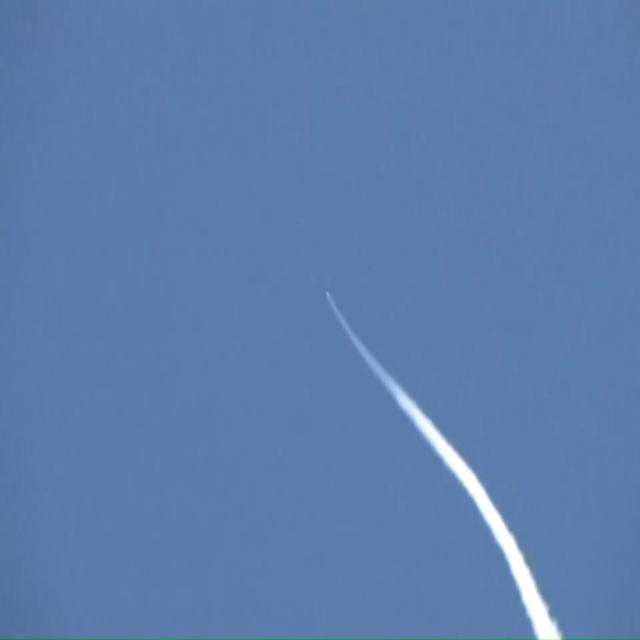Rocket: (326, 290, 331, 299)
